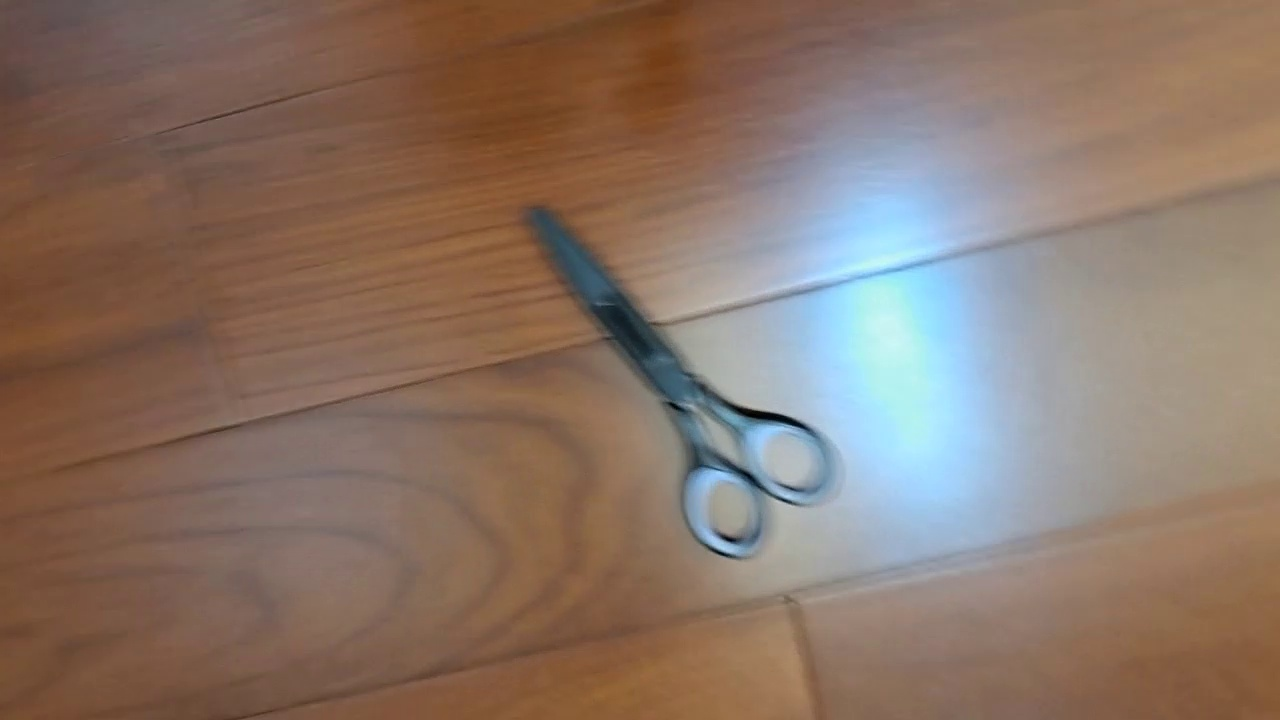scissors: (518, 198, 846, 561)
